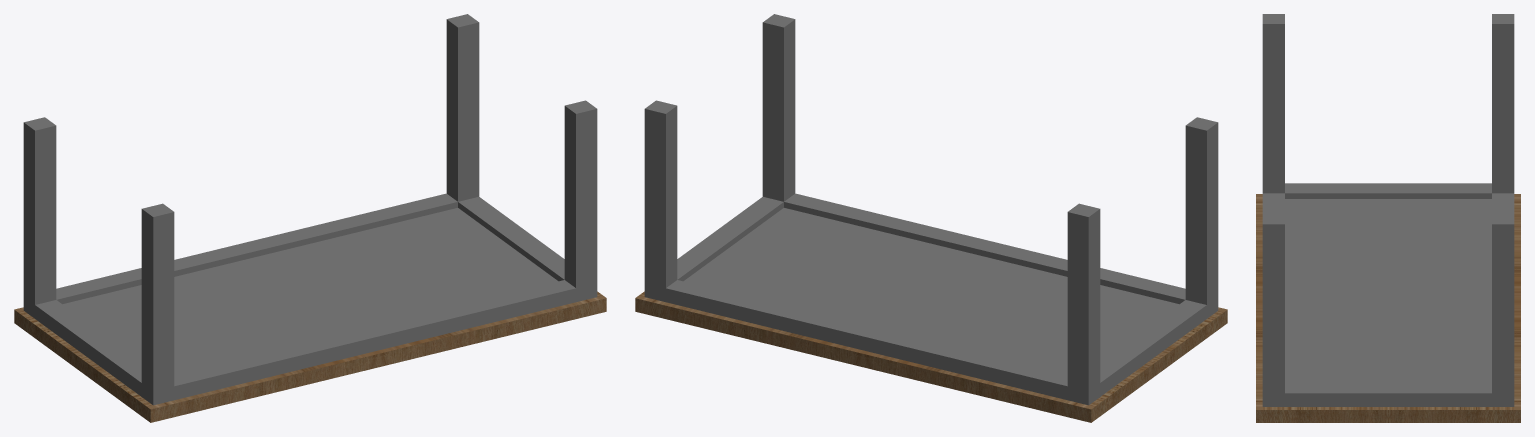
File: table.fbx
The picture shows the model from 3 angles, left to right: view 1: azimuth 30°, elevation 25°; view 2: azimuth 150°, elevation 25°; view 3: azimuth 270°, elevation 25°; orthographic projection. The views are drawn at different scales.
Parts seen in each view (by area): view 1: Cube; view 2: Cube; view 3: Cube.
Part boxes in pixels (left/top/right/bottom): Cube: left=14, top=14, right=606, bottom=422; Cube: left=635, top=14, right=1227, bottom=422; Cube: left=1256, top=14, right=1520, bottom=422.
Size of the model in its own units: 789 by 334 by 409.
